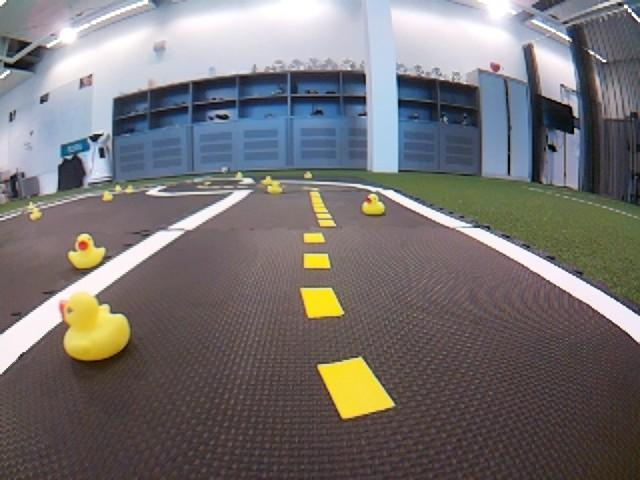Duckies: (57, 294, 130, 361), (67, 233, 107, 269), (361, 194, 385, 215), (267, 183, 283, 194), (29, 209, 41, 220), (102, 191, 113, 201), (261, 176, 273, 185), (26, 201, 36, 210), (125, 185, 134, 194), (304, 171, 312, 178), (236, 172, 243, 180), (115, 185, 122, 191)
